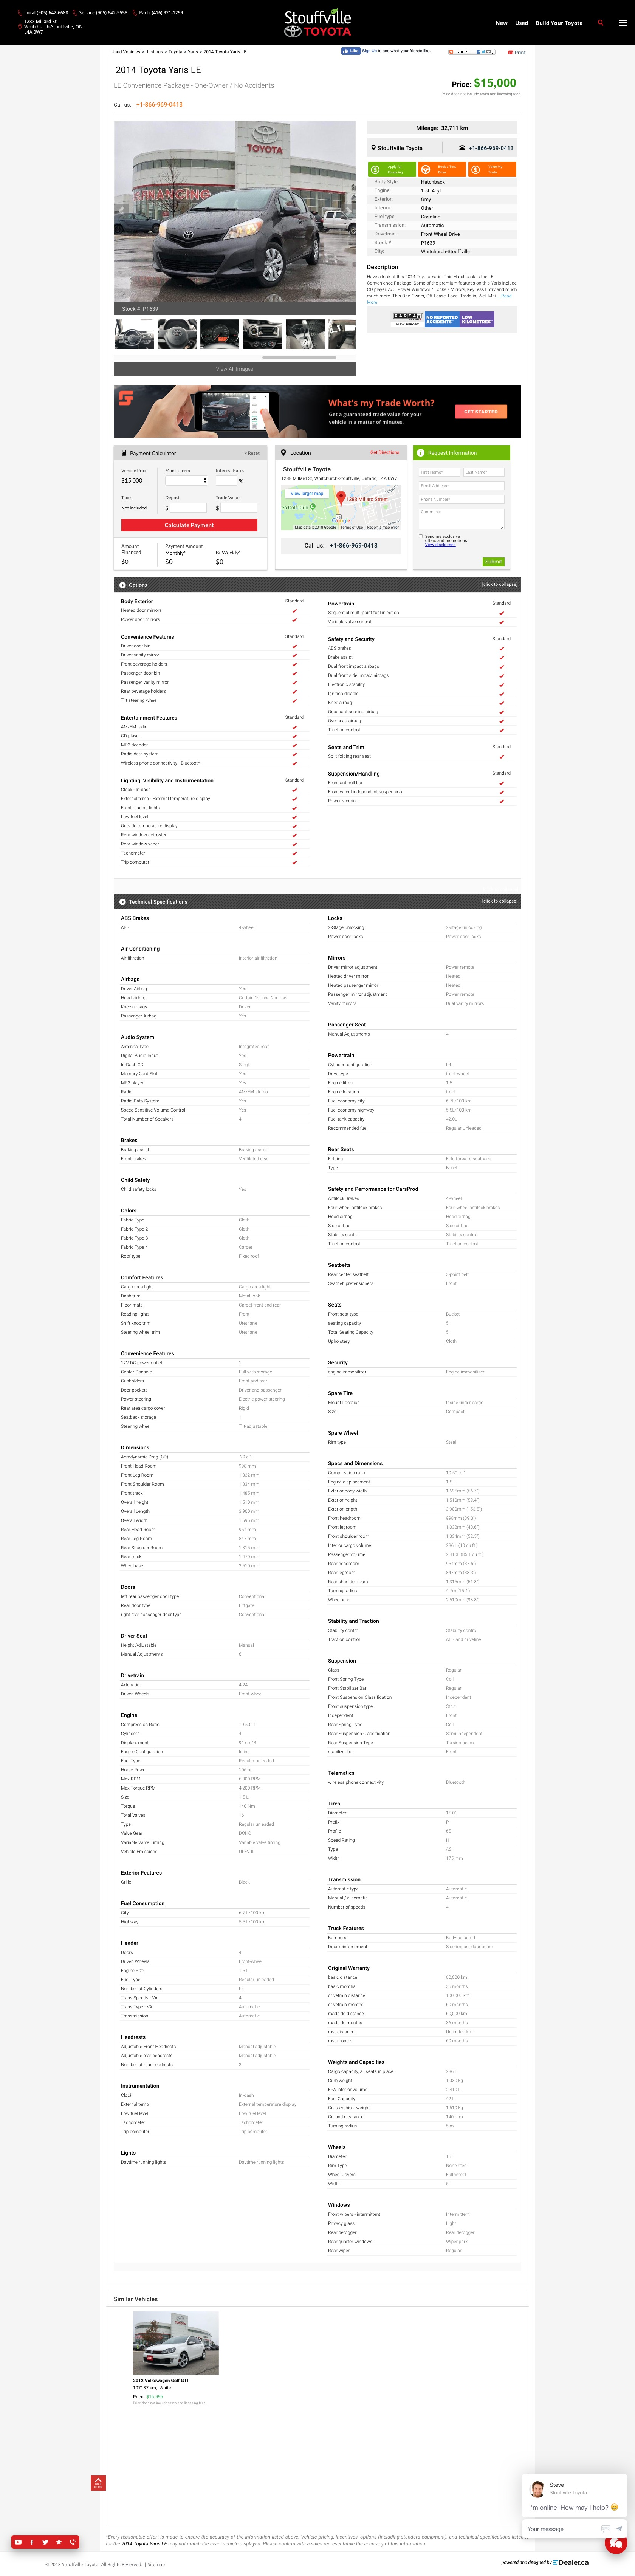car: (341, 204, 357, 218)
